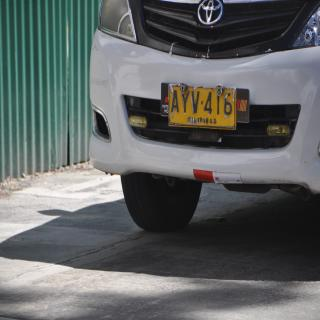license: (169, 85, 238, 131)
